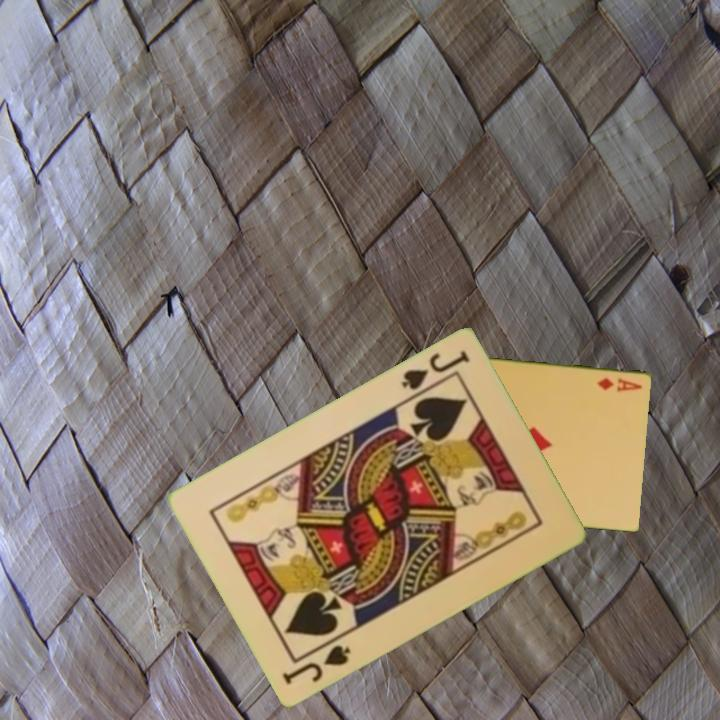Ad: (593, 373, 645, 394)
Js: (397, 347, 473, 394), (278, 642, 354, 688)
